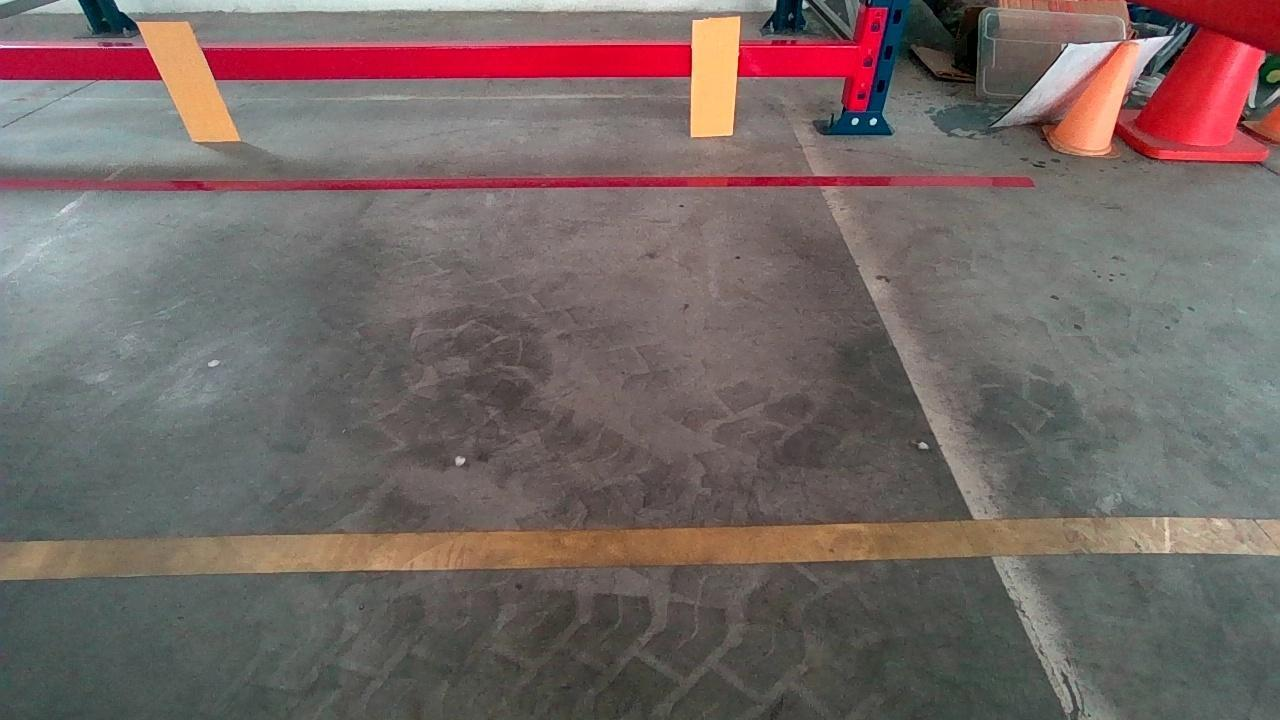h_rack: (12, 42, 865, 86)
orange_strip: (137, 21, 239, 139), (690, 17, 739, 136)
red_line: (7, 171, 1000, 187)
yellow_line: (10, 512, 1268, 585)
